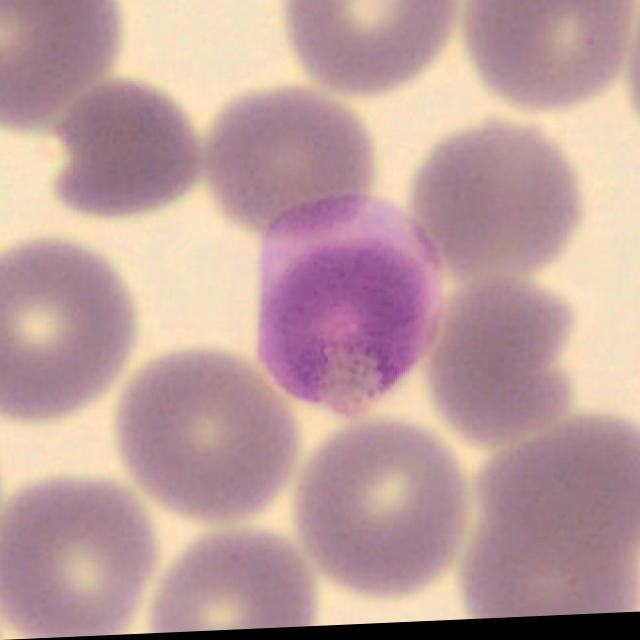Artefato: (255, 197, 448, 423)
